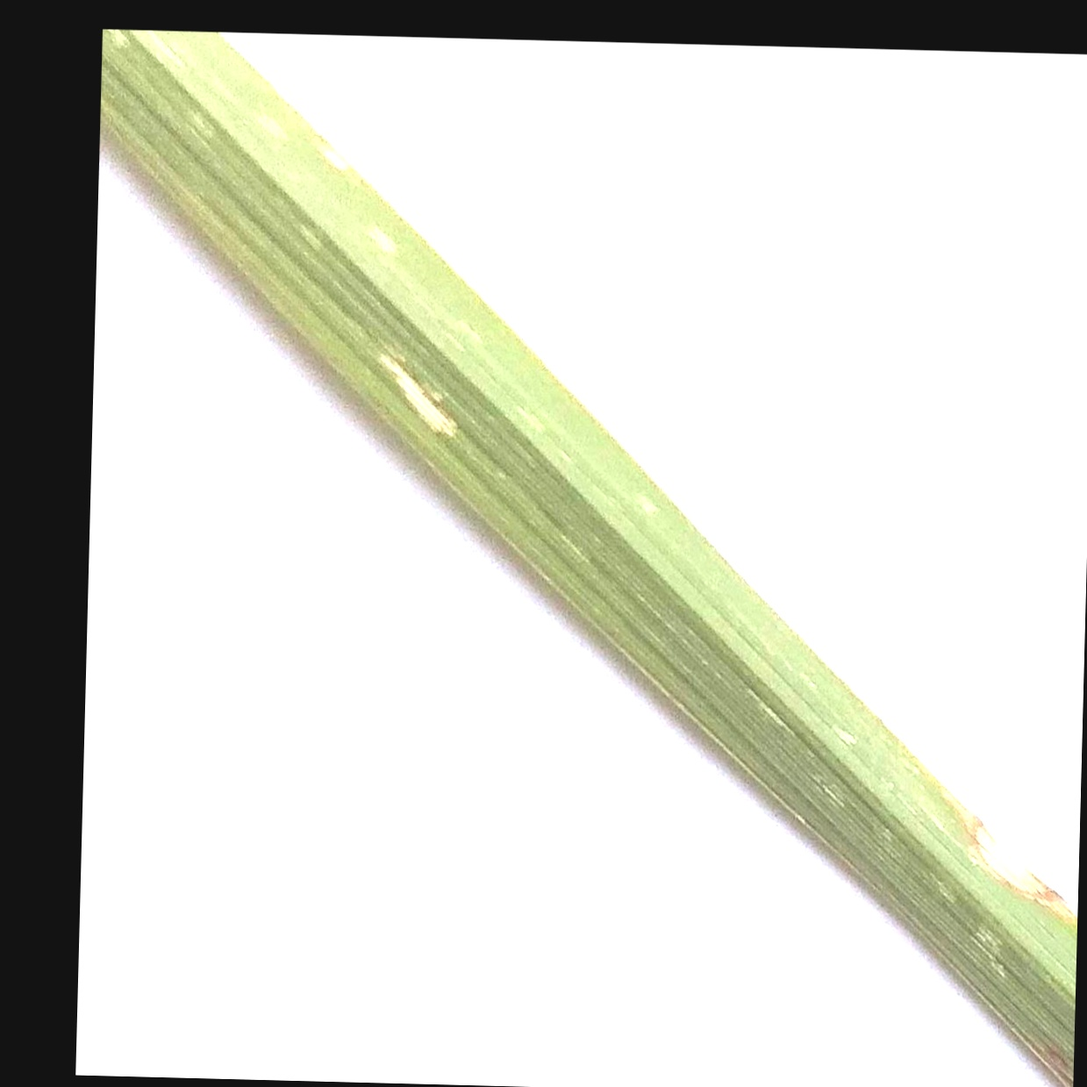Brown_Spot: (943, 783, 1081, 908), (363, 322, 479, 447)
